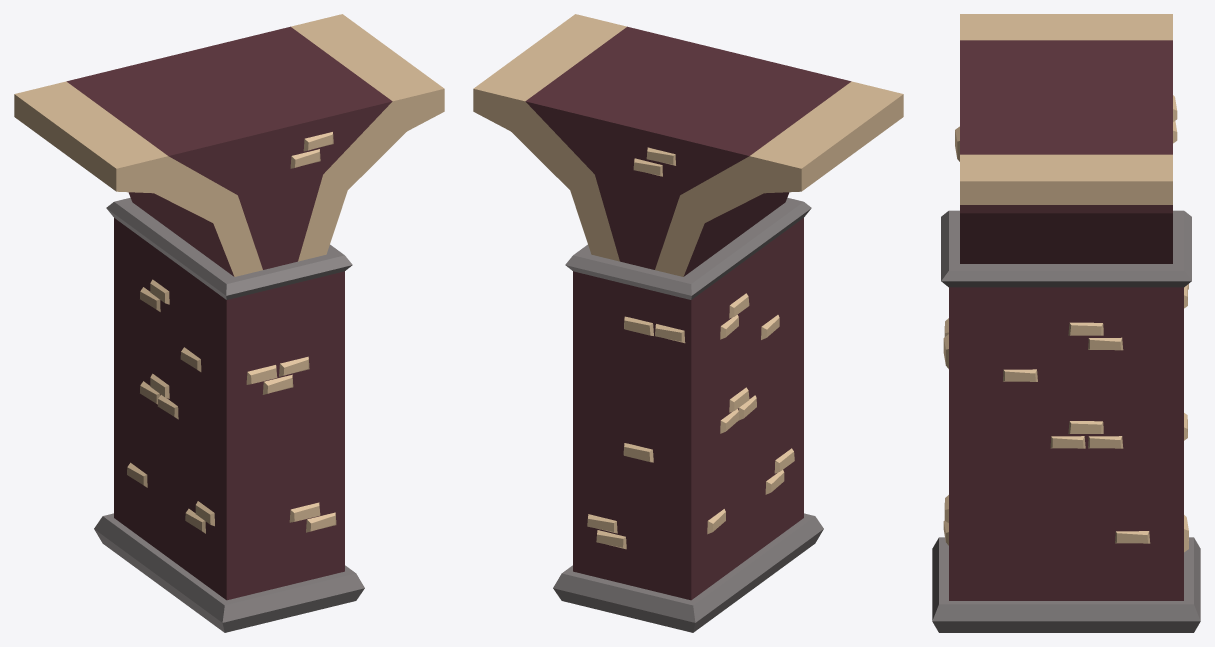
The model's file is SM_Aqueduct_Empire.fbx.
3 renders of one model, left to right at view 1: azimuth 30°, elevation 25°; view 2: azimuth 150°, elevation 25°; view 3: azimuth 270°, elevation 25°, orthographic. The views are drawn at different scales.
Visible parts, largest first — view 1: SM_Aqueduct_Empire; view 2: SM_Aqueduct_Empire; view 3: SM_Aqueduct_Empire.
Part boxes in pixels (x1,y1,x2,y2): SM_Aqueduct_Empire: (14, 14, 444, 632); SM_Aqueduct_Empire: (473, 14, 903, 632); SM_Aqueduct_Empire: (932, 14, 1200, 632).
Size of the model in its own units: 5 by 7 by 3.39.
